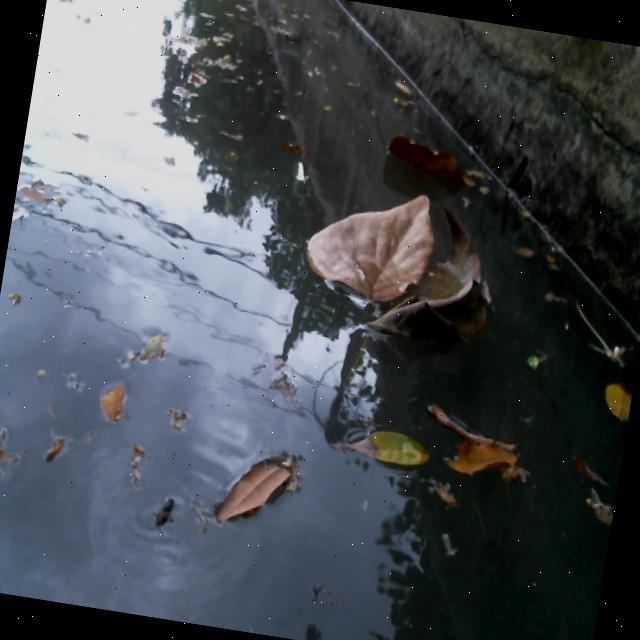Big-leaf: (296, 184, 437, 316), (387, 206, 505, 350), (423, 399, 542, 495), (372, 123, 508, 204)
Small-leaf: (211, 428, 298, 534), (350, 418, 430, 478), (568, 452, 622, 534), (538, 236, 581, 318), (86, 373, 137, 440), (597, 372, 635, 428), (498, 235, 552, 273), (383, 71, 425, 118), (523, 347, 550, 383)
